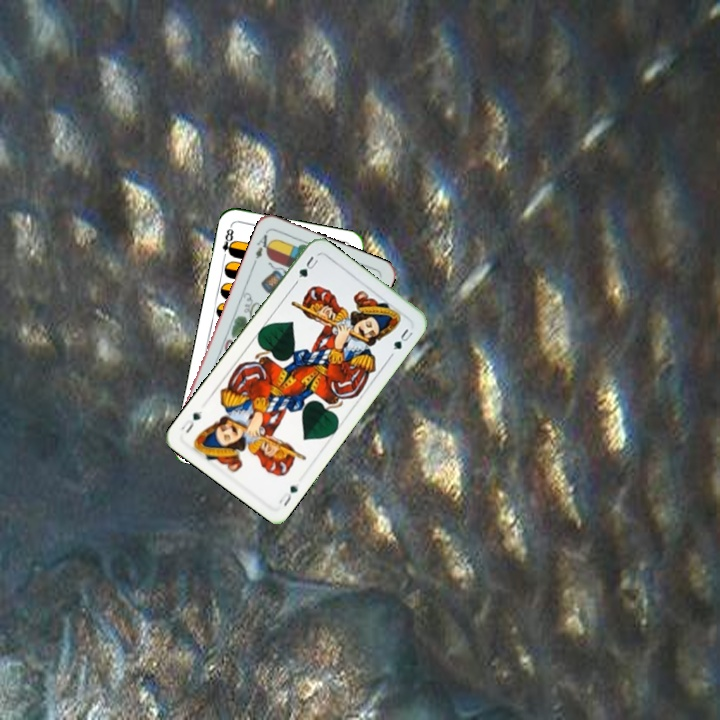E8: (218, 222, 237, 262)
EA: (249, 228, 275, 267)
GU: (291, 252, 321, 286), (275, 481, 301, 509)
